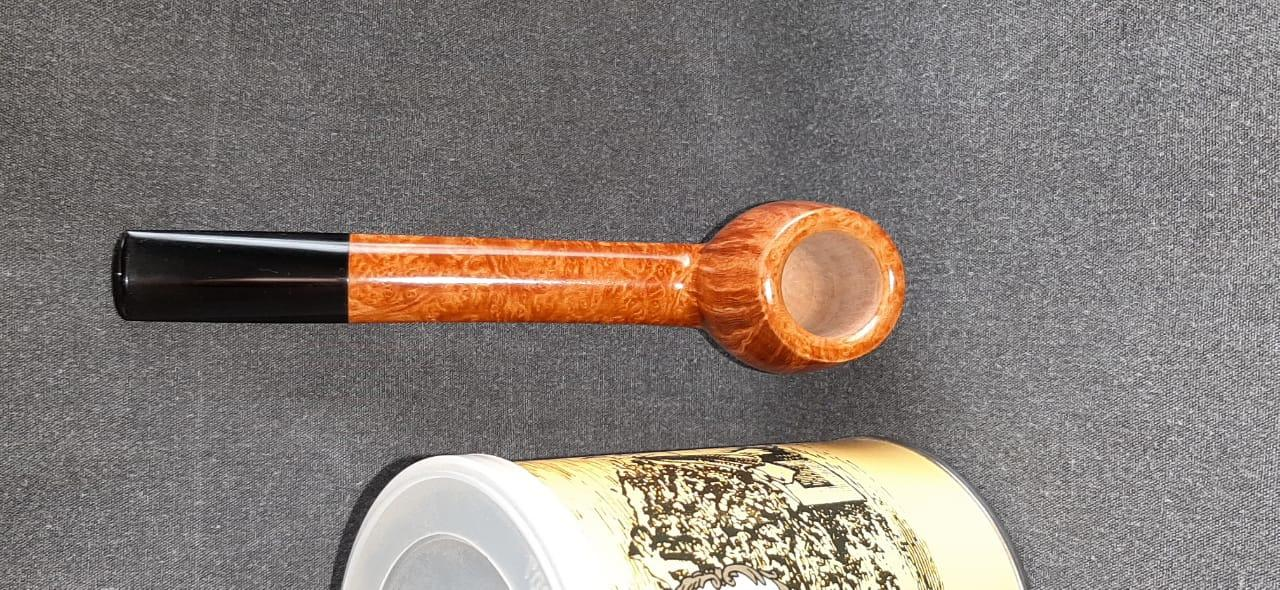trubka: (112, 201, 905, 372)
